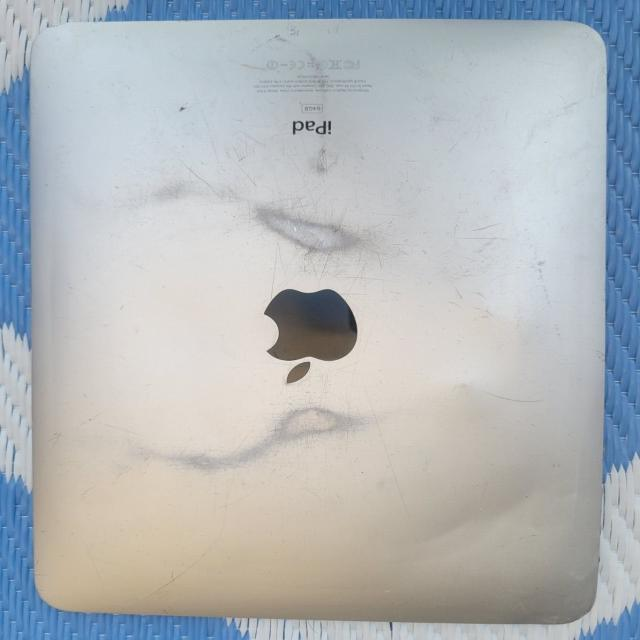Dents: (251, 195, 379, 261), (264, 391, 376, 453)
Scratches: (110, 520, 248, 608), (173, 140, 222, 213), (477, 385, 576, 416)
